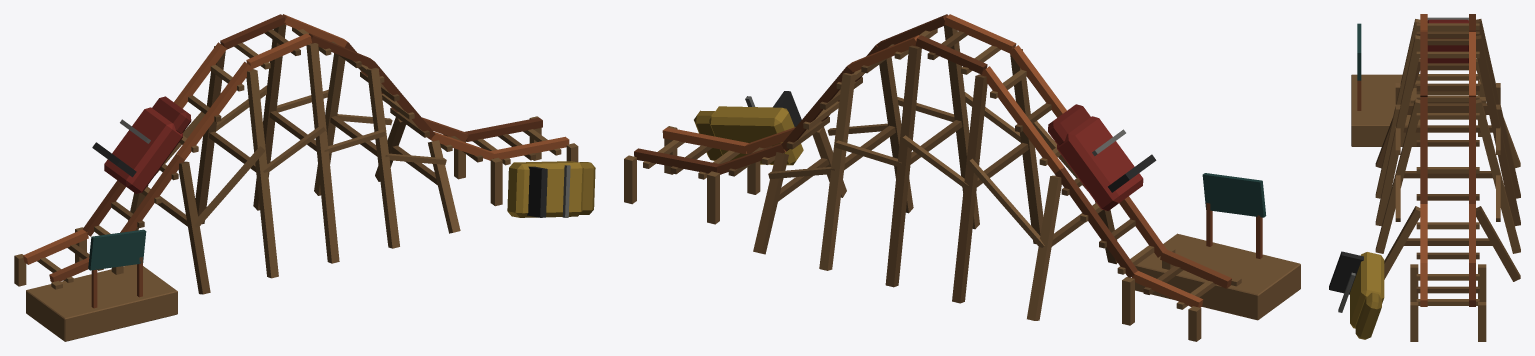
File: parque_montanha_russa.glb
3 views of the same model, side by side, from view 1: azimuth 30°, elevation 25°; view 2: azimuth 150°, elevation 25°; view 3: azimuth 270°, elevation 25° (orthographic). The views are drawn at different scales.
Parts seen in each view (by area): view 1: parque_montanha_russa.001; view 2: parque_montanha_russa.001; view 3: parque_montanha_russa.001.
Boxes of the visible parts, x1,y1,x2,y2 form: parque_montanha_russa.001: (14,14,595,341); parque_montanha_russa.001: (624,14,1300,341); parque_montanha_russa.001: (1329,14,1520,341).
Bounding box in the file's own units: 7.2 × 2.72 × 2.37.
